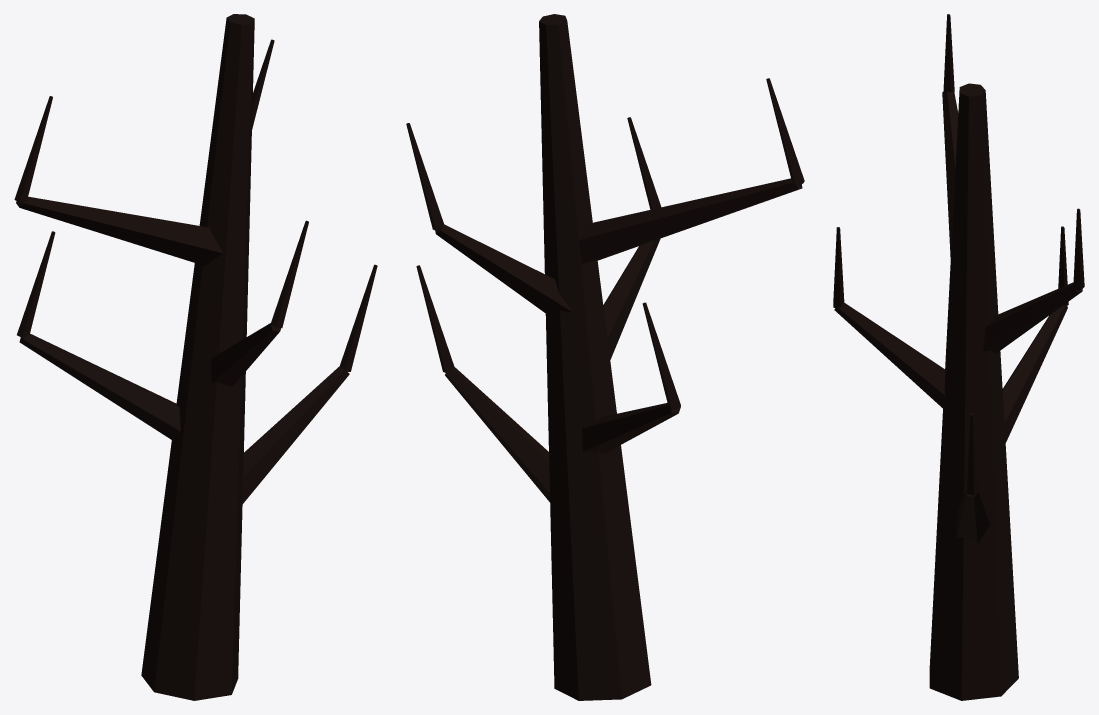
The model's file is Tree_Dead_04.fbx.
3 renders of one model, left to right at view 1: azimuth 30°, elevation 25°; view 2: azimuth 150°, elevation 25°; view 3: azimuth 270°, elevation 25°, orthographic. The views are drawn at different scales.
Visible parts, largest first — view 1: Tree_Dead_04_Trunk; view 2: Tree_Dead_04_Trunk; view 3: Tree_Dead_04_Trunk.
Boxes of the visible parts, bbox=[...] form: Tree_Dead_04_Trunk: bbox=[14, 14, 377, 700]; Tree_Dead_04_Trunk: bbox=[406, 14, 804, 700]; Tree_Dead_04_Trunk: bbox=[833, 14, 1084, 700].
Size of the model in its own units: 2.23 by 3.73 by 1.38.
1 material, 1 textured.
